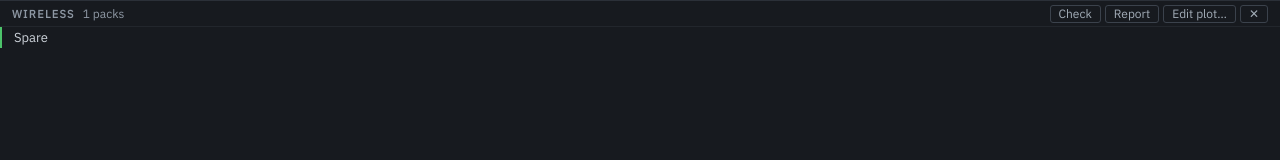
Test: RfPanel › the report › reports a channel that is in no plot, so a show with no plot can still ask what the night did
Click the button with class "rf-btn" showing "Report".
click(1132, 14)  # box left=1105, top=4, right=1159, bottom=22
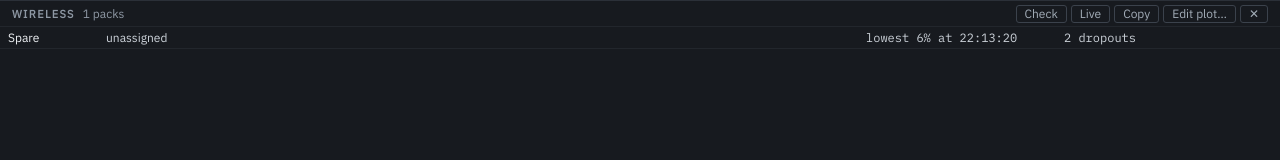
Expected: the text with class "rf-report-label" reads "Spare", left=8, top=30, right=39, bottom=45
Expected: the text with class "rf-report-battery" shows "lowest 6%", left=866, top=30, right=1017, bottom=45
Expected: the text with class "rf-report-dropouts" reads "2 dropouts", left=1064, top=30, right=1136, bottom=45
